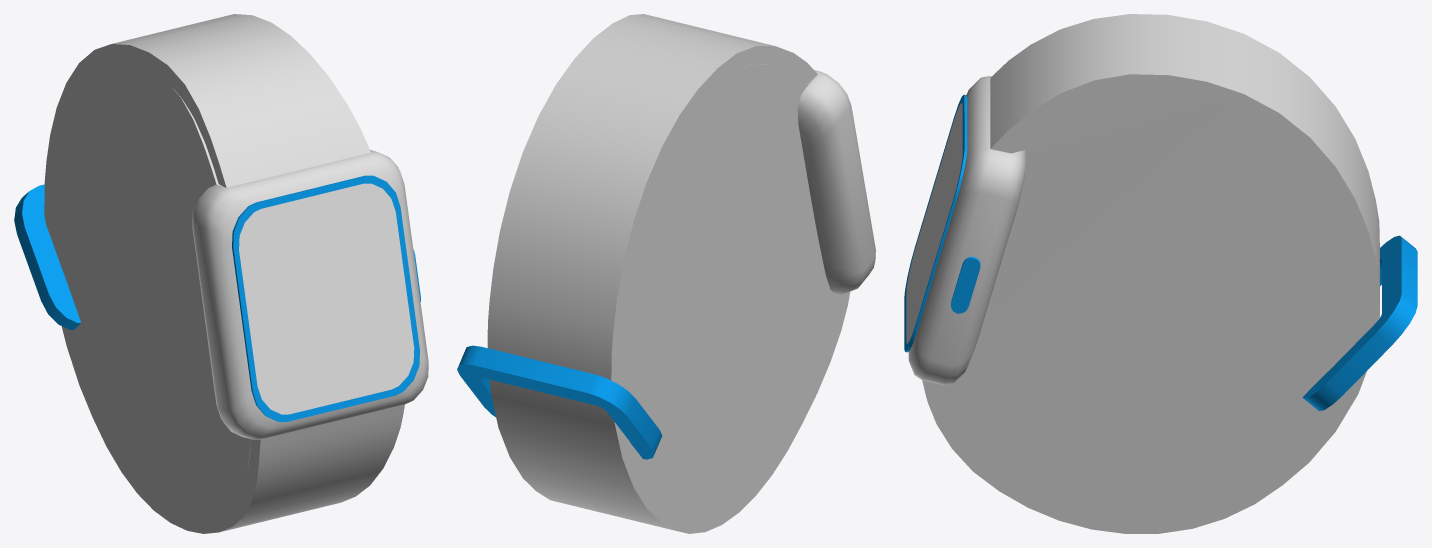
File: SM_Smartwatch.fbx
3 views of the same model, side by side, from view 1: azimuth 30°, elevation 25°; view 2: azimuth 150°, elevation 25°; view 3: azimuth 270°, elevation 25° (orthographic).
Parts seen in each view (by area): view 1: Smartwatch_body, Smartwatch_screen, Smartwatch_details; view 2: Smartwatch_body, Smartwatch_details; view 3: Smartwatch_body, Smartwatch_details, Smartwatch_screen.
Boxes of the visible parts, bbox=[...] form: Smartwatch_body: bbox=[44, 14, 428, 533]; Smartwatch_screen: bbox=[239, 183, 414, 414]; Smartwatch_details: bbox=[14, 175, 420, 421]; Smartwatch_body: bbox=[487, 14, 875, 533]; Smartwatch_details: bbox=[457, 345, 662, 459]; Smartwatch_body: bbox=[908, 14, 1379, 533]; Smartwatch_details: bbox=[904, 94, 1417, 411]; Smartwatch_screen: bbox=[906, 103, 962, 343].
Bounding box in the file's own units: 6.32 × 13.65 × 13.81.
